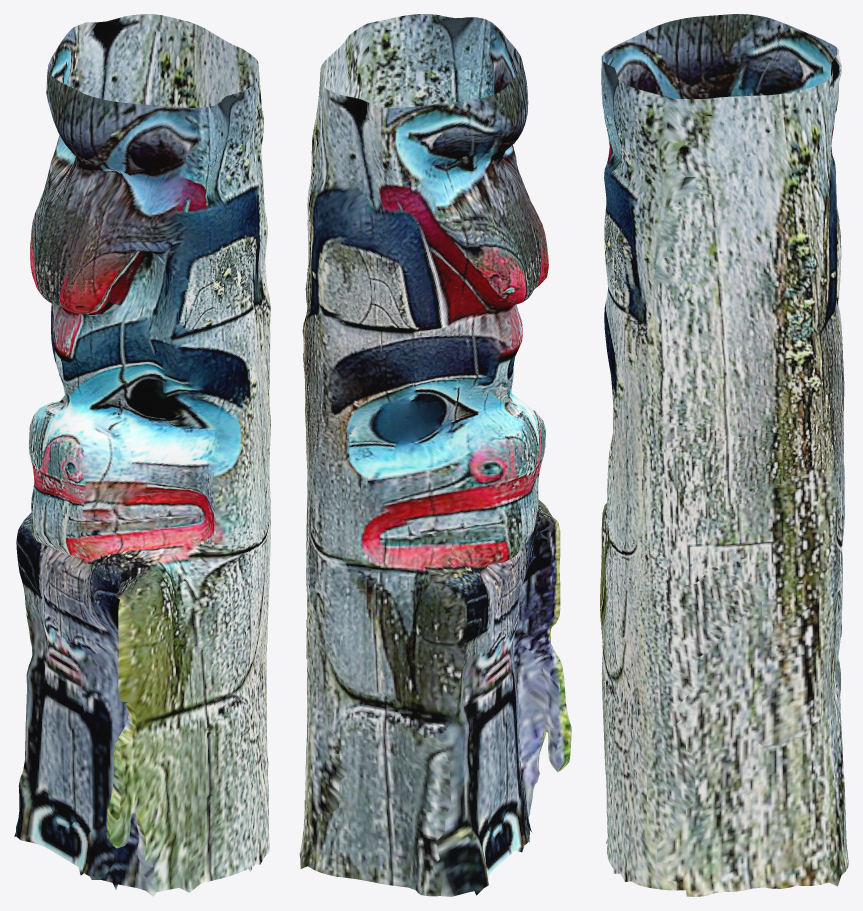
3 views of the same model, side by side, from view 1: azimuth 30°, elevation 25°; view 2: azimuth 150°, elevation 25°; view 3: azimuth 270°, elevation 25° (orthographic).
Bounding box in the file's own units: 0.7816 × 2.91 × 0.8244.
Materials: 1 (1 with a texture image).
